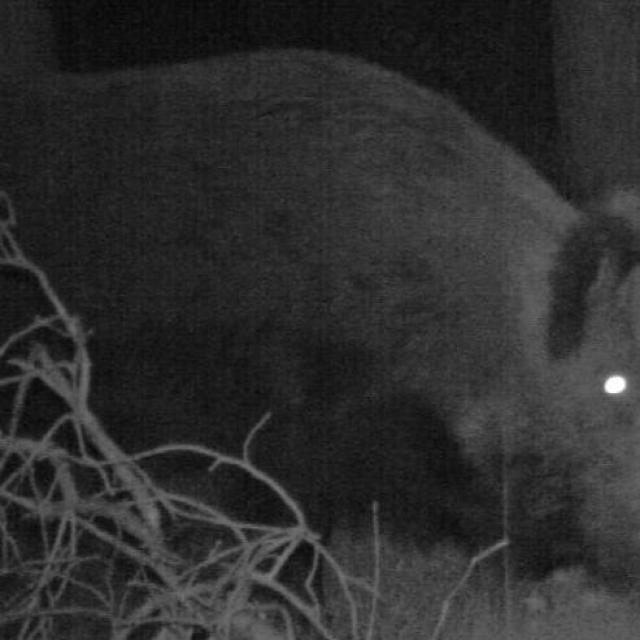pig: (20, 32, 640, 582)
